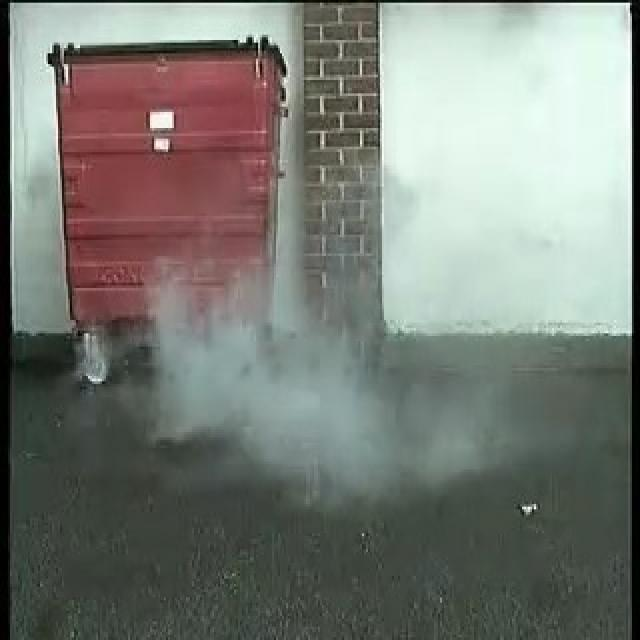smoke: (167, 318, 403, 478)
